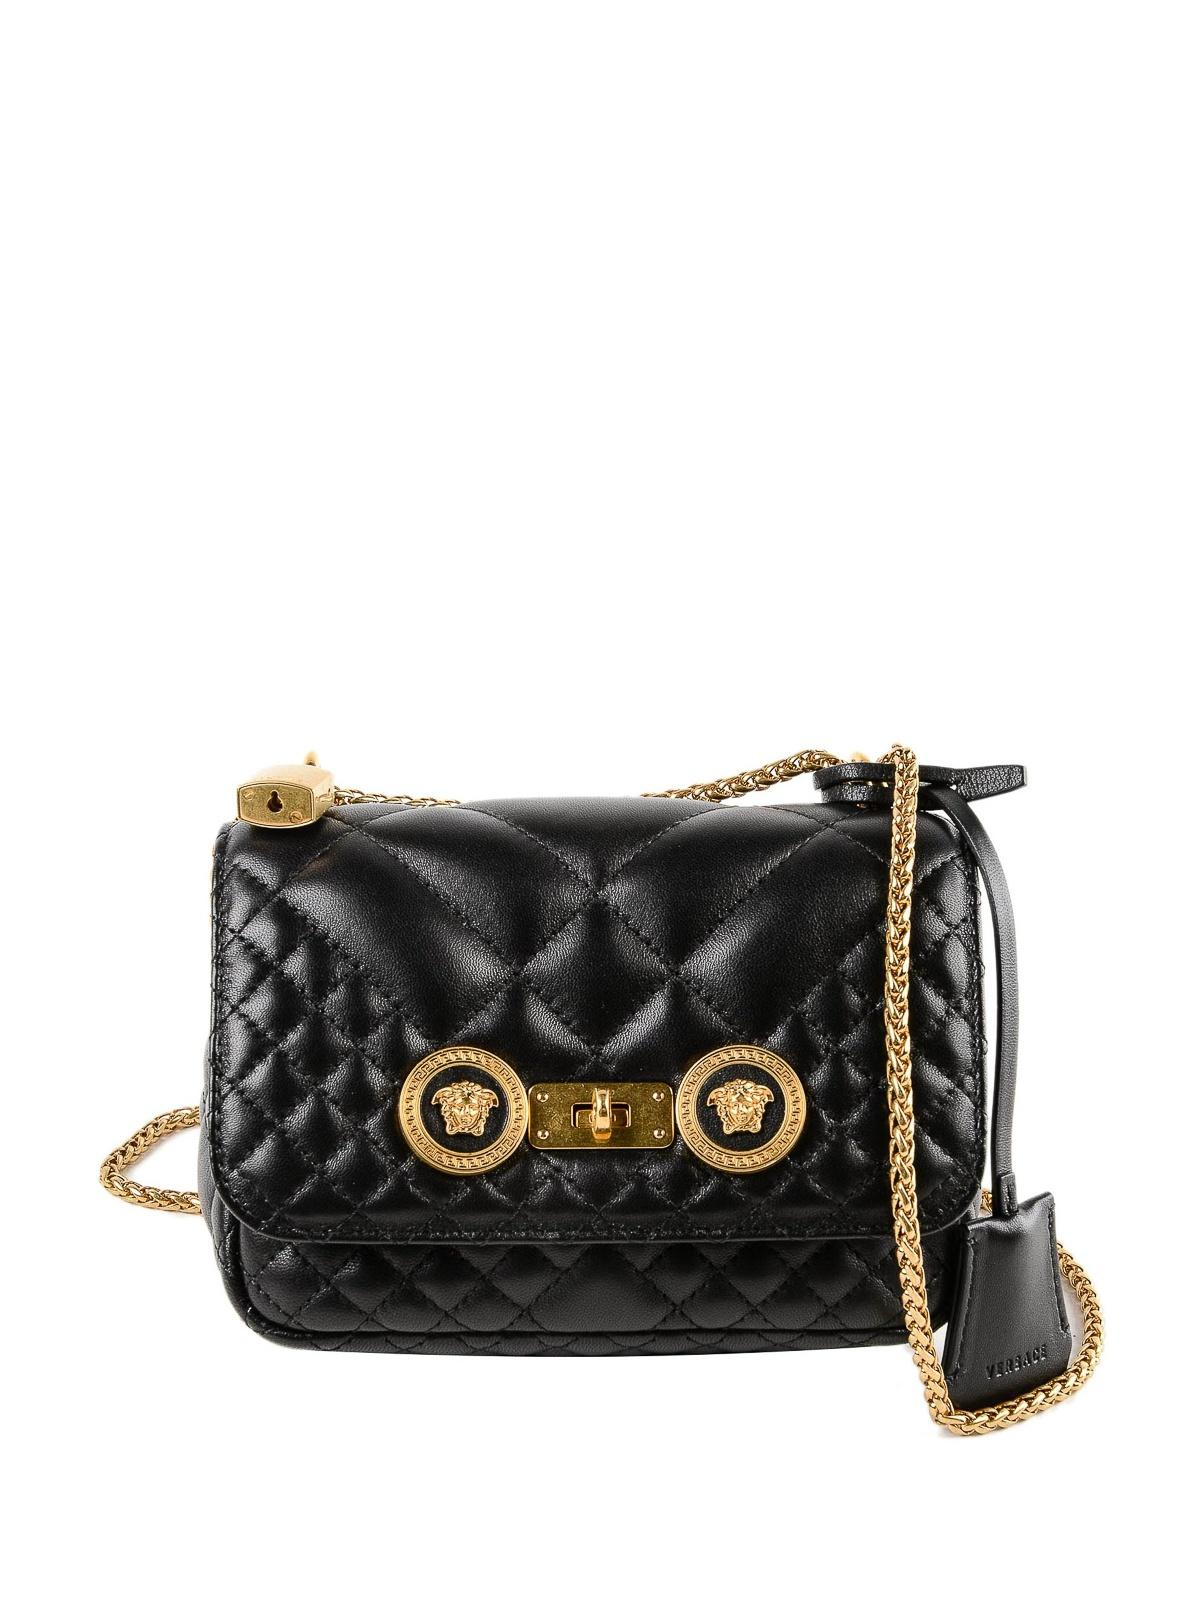VERSACE: (679, 1041, 811, 1180), (397, 1041, 531, 1173)
